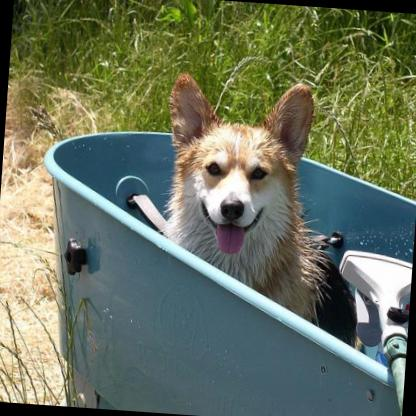Pembroke: (154, 66, 342, 324)
